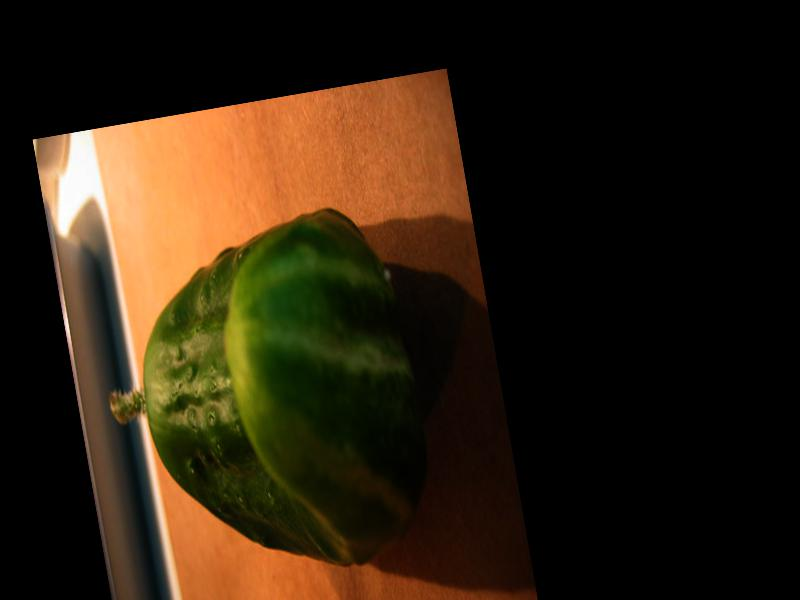Cucumber: (82, 195, 445, 599)
